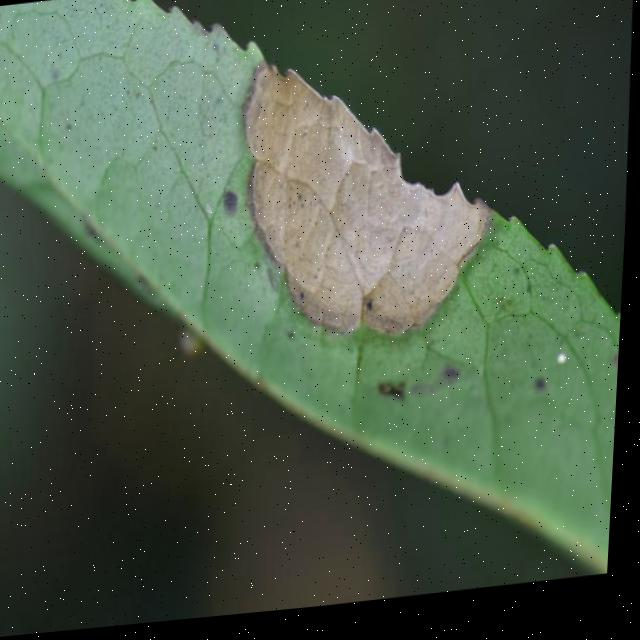Tea cloud leaf blight: (241, 29, 511, 354)
